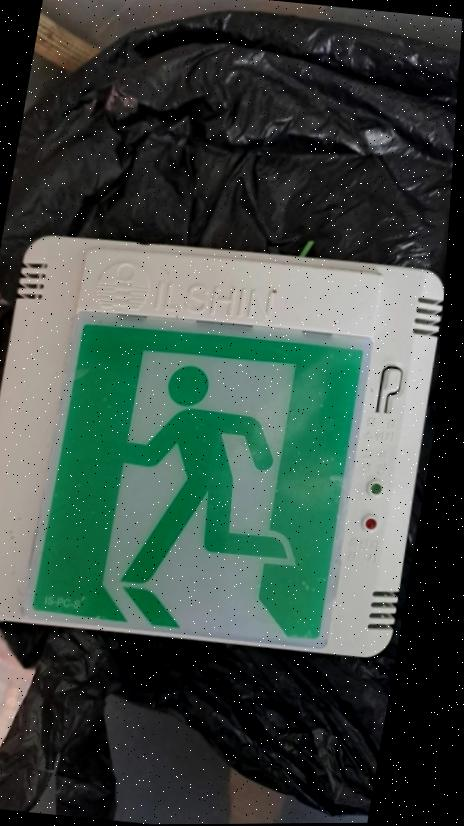emergency_exit: (2, 235, 444, 659)
